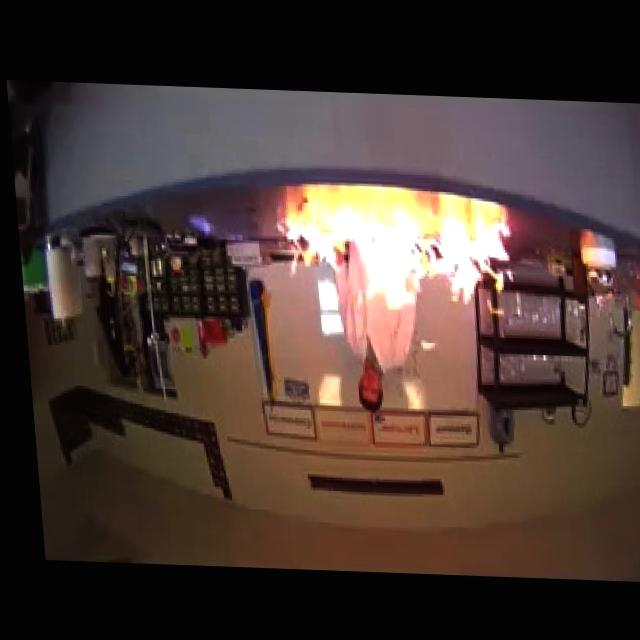Fire: (274, 208, 517, 321)
